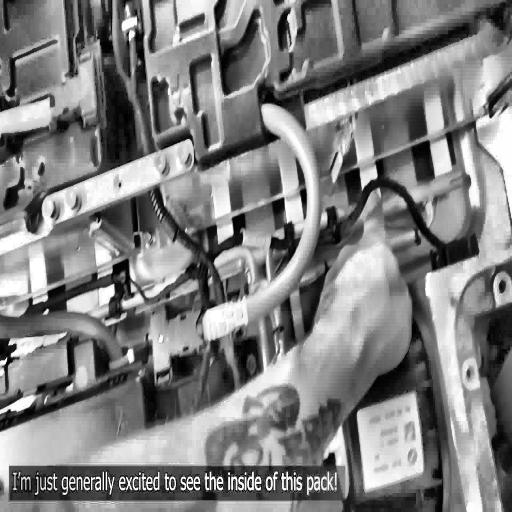high_volt_cable: (141, 92, 332, 394)
low_volt_cable: (108, 0, 245, 388)
nut: (153, 149, 170, 181), (176, 140, 193, 169), (45, 194, 58, 222), (66, 188, 81, 212)
